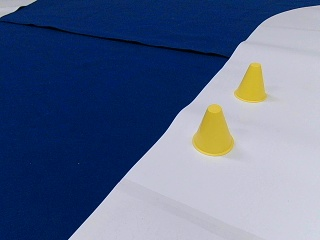cone: (194, 105, 234, 155), (234, 63, 267, 102)
